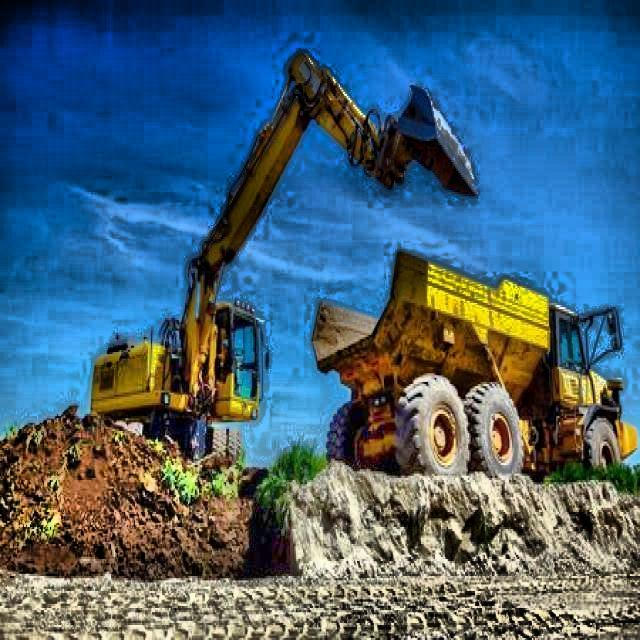excavator: (87, 53, 474, 454)
